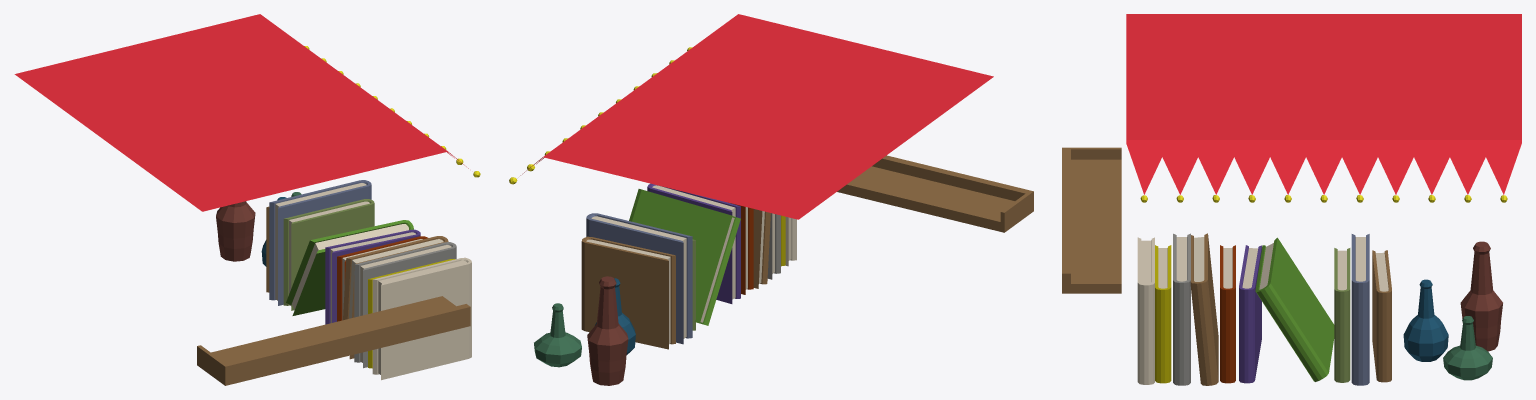
File: decor.fbx
3 renders of one model, left to right at view 1: azimuth 30°, elevation 25°; view 2: azimuth 150°, elevation 25°; view 3: azimuth 270°, elevation 25°, orthographic. The views are drawn at different scales.
Visible parts, largest first — view 1: Plane.001, Cube.016, Cube.003, Cube.012, Cube.013, Cube.011, Cube.007, Sphere.001, Cube.010, Cube.008, Cube.009, Cube.006; view 2: Plane.001, Cube.016, Cube.014, Cube.011, Cube.013, Sphere.001, Cube.010, Sphere.002, Cube.008, Cube.009, Cube.007, Sphere (+1 smaller); view 3: Plane.001, Cube.016, Cube.011, Cube.008, Cube.013, Sphere.001, Cube.010, Cube.007, Cube.003, Cube.014, Cube.006, Cube.012 (+3 smaller).
Part boxes in pixels (box(x1,y1,x2,y2)): Plane.001: box(14, 14, 480, 211); Cube.016: box(197, 296, 470, 385); Cube.003: box(372, 257, 471, 380); Cube.012: box(283, 199, 374, 310); Cube.013: box(269, 180, 371, 305); Cube.011: box(286, 220, 413, 315); Cube.007: box(354, 242, 456, 368); Sphere.001: box(216, 201, 255, 261); Cube.010: box(325, 229, 420, 324); Cube.008: box(343, 236, 448, 359); Cube.009: box(337, 236, 427, 321); Cube.006: box(368, 259, 455, 368); Plane.001: box(509, 14, 993, 219); Cube.016: box(837, 155, 1033, 232); Cube.014: box(581, 236, 675, 349); Cube.011: box(629, 189, 740, 325); Cube.013: box(586, 213, 692, 344); Sphere.001: box(587, 276, 628, 385); Cube.010: box(647, 183, 740, 303); Sphere.002: box(534, 303, 581, 367); Cube.008: box(753, 209, 770, 288); Cube.009: box(730, 203, 753, 294); Cube.007: box(767, 213, 780, 279); Sphere: box(595, 278, 635, 354); Plane.001: box(1126, 14, 1521, 202); Cube.016: box(1062, 147, 1121, 293); Cube.011: box(1255, 237, 1334, 381); Cube.008: box(1190, 233, 1218, 385); Cube.013: box(1351, 234, 1369, 385); Sphere.001: box(1460, 241, 1502, 351); Cube.010: box(1239, 245, 1261, 383); Cube.007: box(1173, 233, 1190, 385); Cube.003: box(1137, 237, 1154, 384); Cube.014: box(1372, 250, 1391, 382); Cube.006: box(1155, 245, 1171, 383); Cube.012: box(1334, 248, 1350, 382).
Bounding box in the file's own units: 83.95 × 59.6 × 108.
